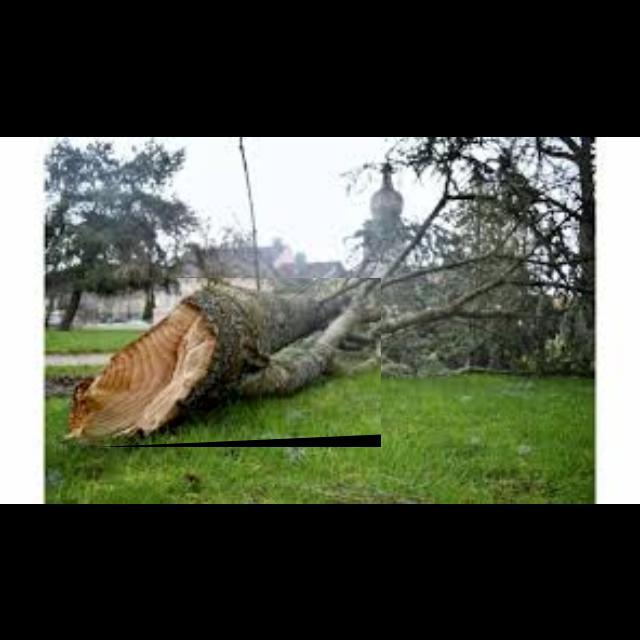fallen_tree: (76, 278, 382, 448)
